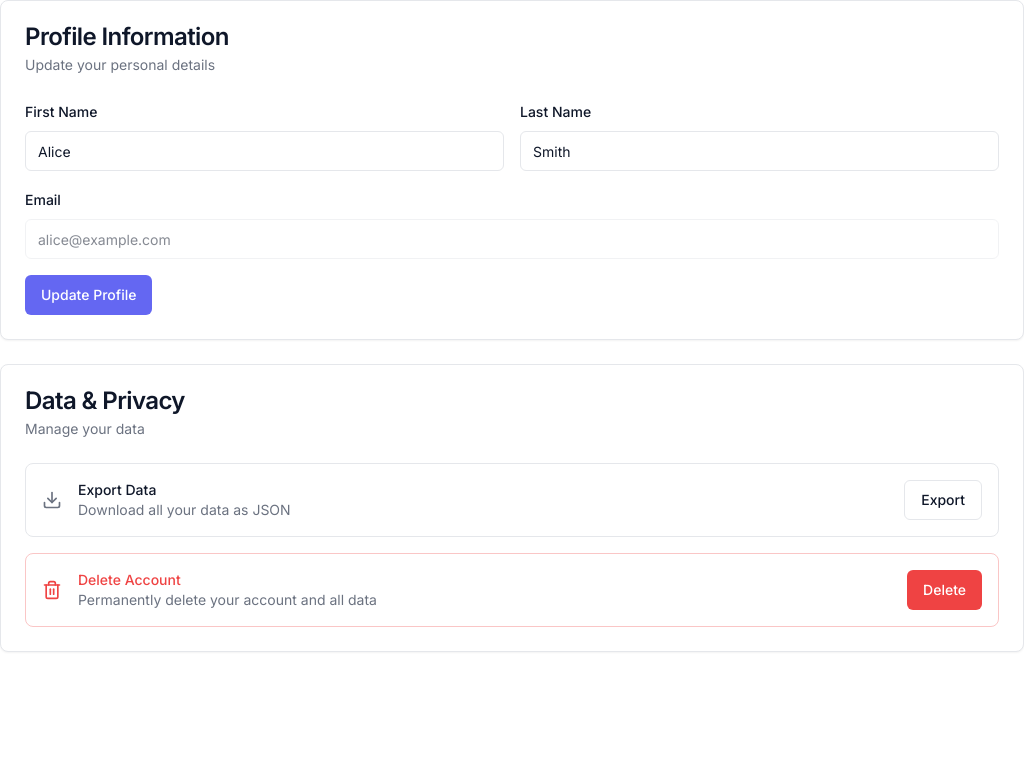
Test case: AccountTab - delete account › should open the delete confirmation dialog when the Delete button is clicked
This screenshot has width=1024, height=768.
Click the button "Delete" at (945, 590), box 907,570 -> 982,610
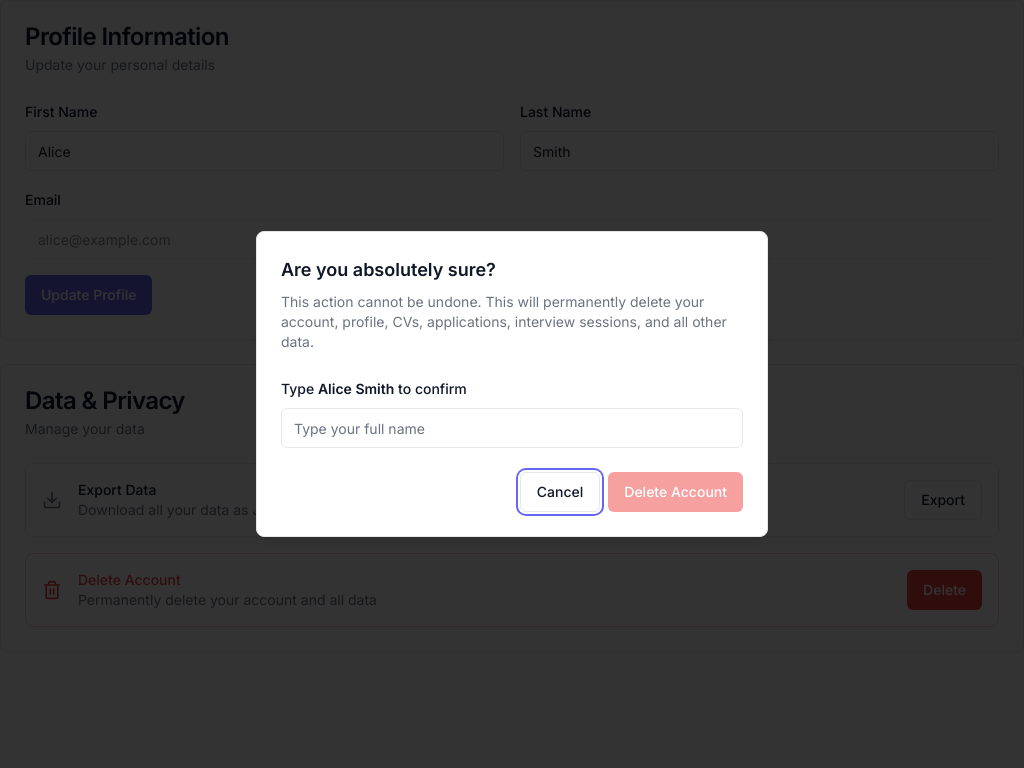
Result: the heading "Are you absolutely sure?" is shown at 281,259 -> 496,280
